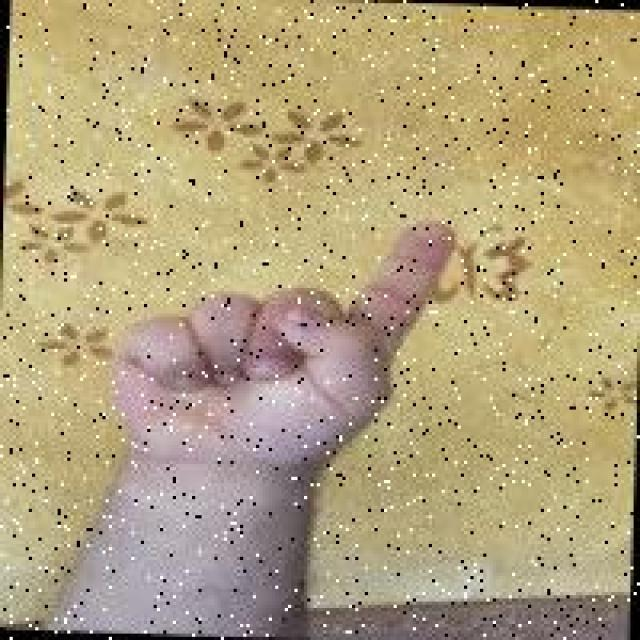Z: (104, 203, 456, 472)
